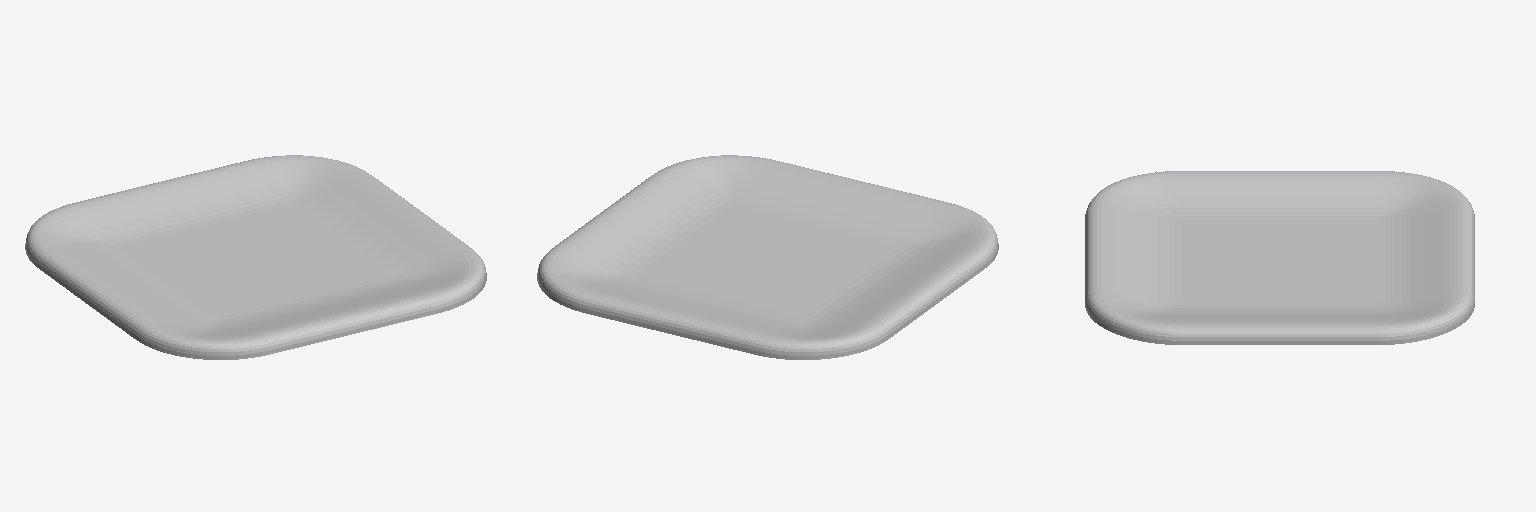
File: ButtonDepressedSL.obj
3 views of the same model, side by side, from view 1: azimuth 30°, elevation 25°; view 2: azimuth 150°, elevation 25°; view 3: azimuth 270°, elevation 25° (orthographic).
Visible parts, largest first — view 1: ButtonDepressed; view 2: ButtonDepressed; view 3: ButtonDepressed.
Boxes of the visible parts, x1,y1,x2,y2 form: ButtonDepressed: [25, 155, 486, 359]; ButtonDepressed: [537, 155, 998, 359]; ButtonDepressed: [1085, 171, 1474, 344].
Size of the model in its own units: 0.2 by 0.0076 by 0.2.